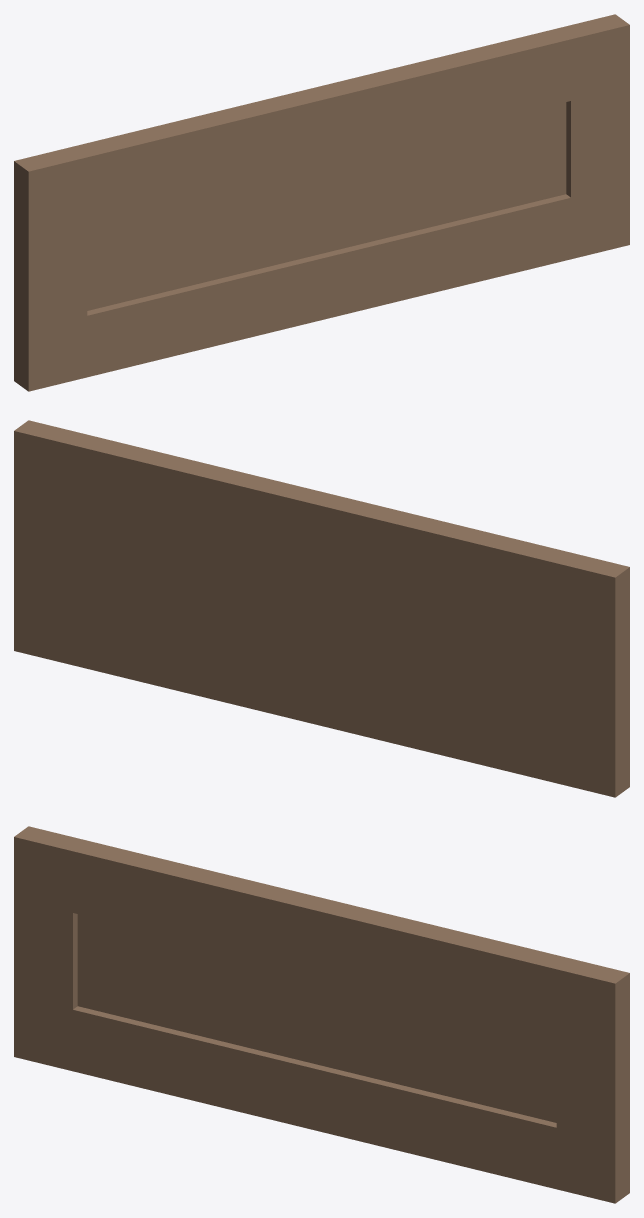
Rendered from drawer_front_09.obj.
The picture shows the model from 3 angles, top to bottom: view 1: azimuth 30°, elevation 25°; view 2: azimuth 150°, elevation 25°; view 3: azimuth 330°, elevation 25°; orthographic projection.
Visible parts, largest first — view 1: drawer_front_09; view 2: drawer_front_09; view 3: drawer_front_09.
Boxes of the visible parts, x1,y1,x2,y2 form: drawer_front_09: [14, 14, 629, 391]; drawer_front_09: [14, 420, 629, 797]; drawer_front_09: [14, 826, 629, 1203].
Bounding box in the file's own units: 454 × 159 × 19.05.
